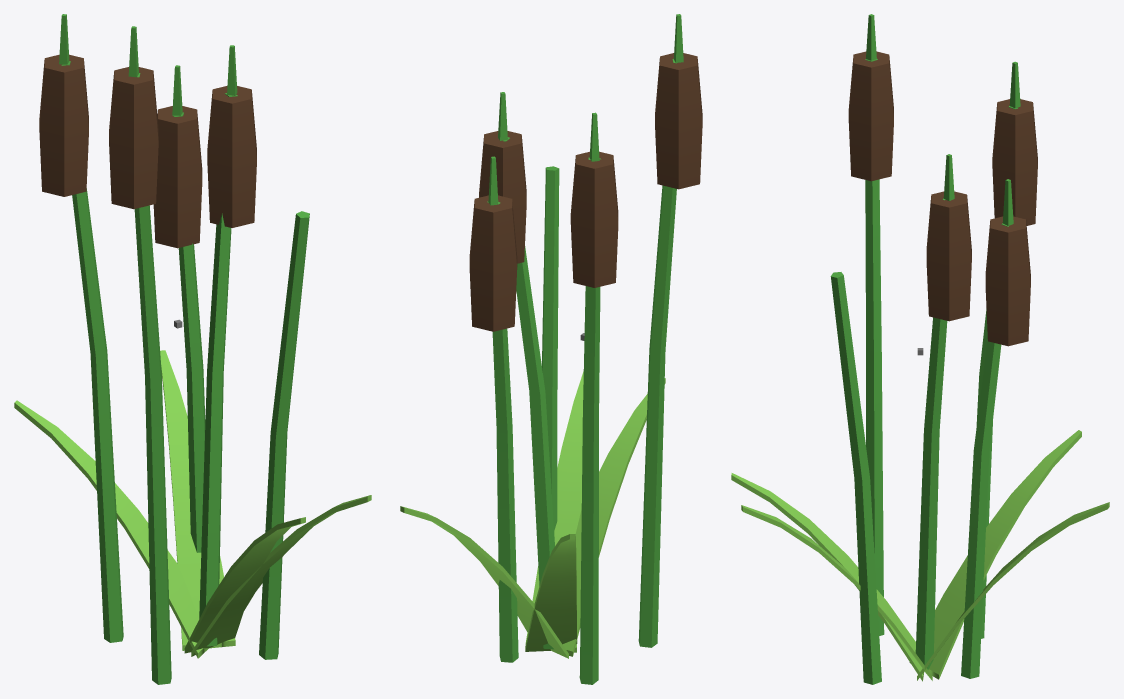
Rendered from Reeds.fbx.
The picture shows the model from 3 angles, left to right: view 1: azimuth 30°, elevation 25°; view 2: azimuth 150°, elevation 25°; view 3: azimuth 270°, elevation 25°; orthographic projection. The views are drawn at different scales.
Visible parts, largest first — view 1: Reeds_Leaf, Reeds_BarkDark, Reeds_LeafLight; view 2: Reeds_Leaf, Reeds_BarkDark, Reeds_LeafLight; view 3: Reeds_Leaf, Reeds_BarkDark, Reeds_LeafLight.
Part boxes in pixels (x1,y1,x2,y2): Reeds_Leaf: [59, 14, 309, 684]; Reeds_BarkDark: [39, 54, 256, 248]; Reeds_LeafLight: [14, 350, 371, 658]; Reeds_Leaf: [487, 14, 683, 684]; Reeds_BarkDark: [469, 53, 702, 331]; Reeds_LeafLight: [400, 371, 665, 658]; Reeds_Leaf: [830, 14, 1020, 684]; Reeds_BarkDark: [848, 51, 1037, 346]; Reeds_LeafLight: [731, 430, 1109, 681].
Bounding box in the file's own units: 147 × 488 × 274.
